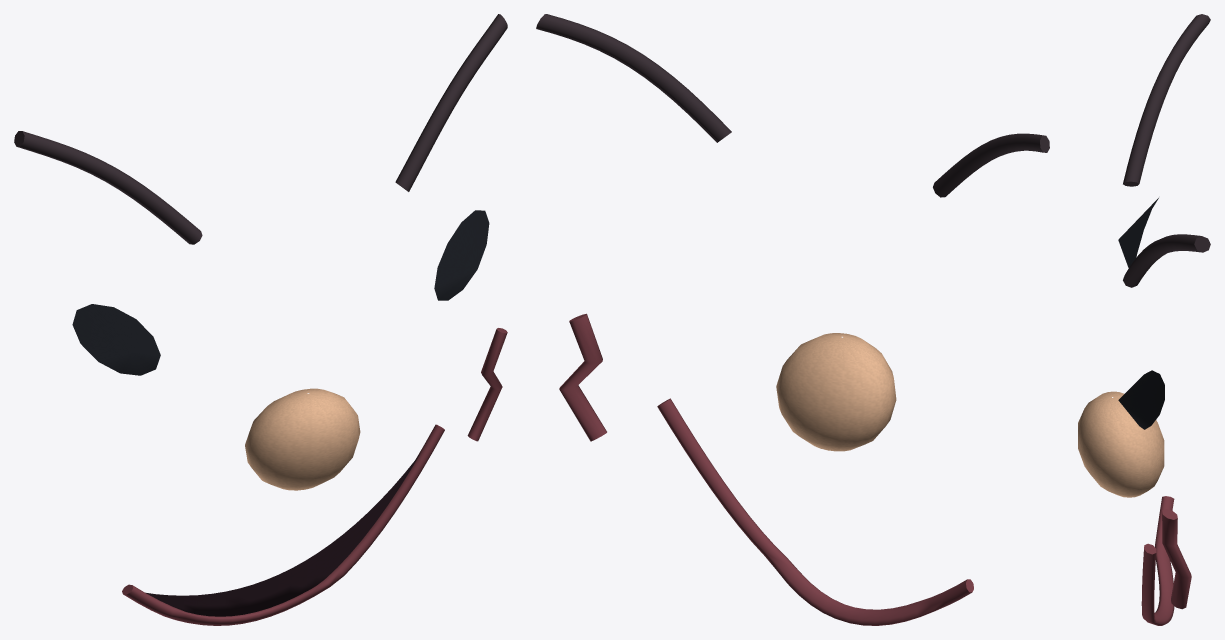
Rendered from face_storm_chaser.gltf.
The picture shows the model from 3 angles, left to right: view 1: azimuth 30°, elevation 25°; view 2: azimuth 150°, elevation 25°; view 3: azimuth 270°, elevation 25°; orthographic projection. The views are drawn at different scales.
Visible parts, largest first — view 1: Storm Chaser; view 2: Storm Chaser; view 3: Storm Chaser.
Part boxes in pixels (left/top/right/bottom): Storm Chaser: left=14, top=14, right=507, bottom=625; Storm Chaser: left=536, top=14, right=1049, bottom=625; Storm Chaser: left=1078, top=14, right=1210, bottom=625.
Size of the model in its own units: 0.2579 by 0.2668 by 0.0637.
Materials: 5 (5 with a texture image).
